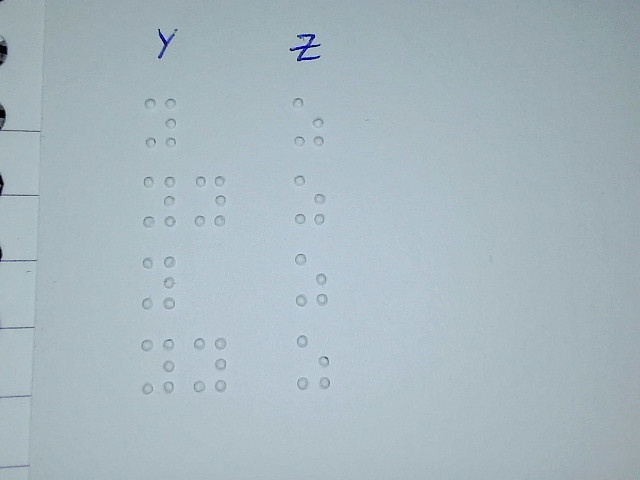Y: (192, 334, 227, 394), (140, 336, 175, 396), (141, 253, 176, 313), (144, 95, 178, 149), (193, 174, 227, 228)
Z: (295, 332, 331, 390), (293, 251, 329, 307), (291, 94, 325, 148), (292, 173, 326, 225)
